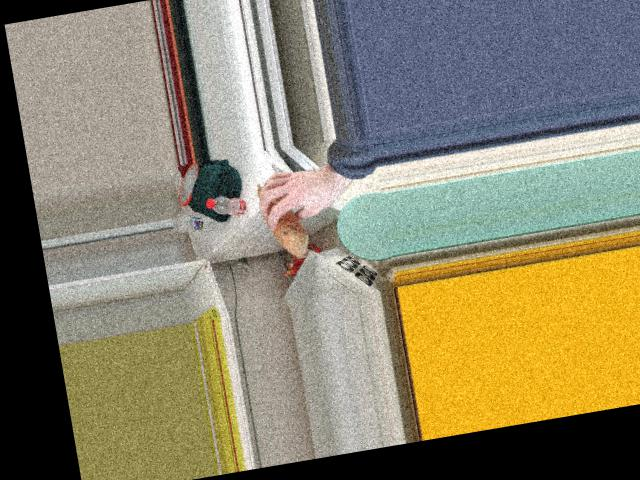sweet_potato: (256, 175, 303, 256)
